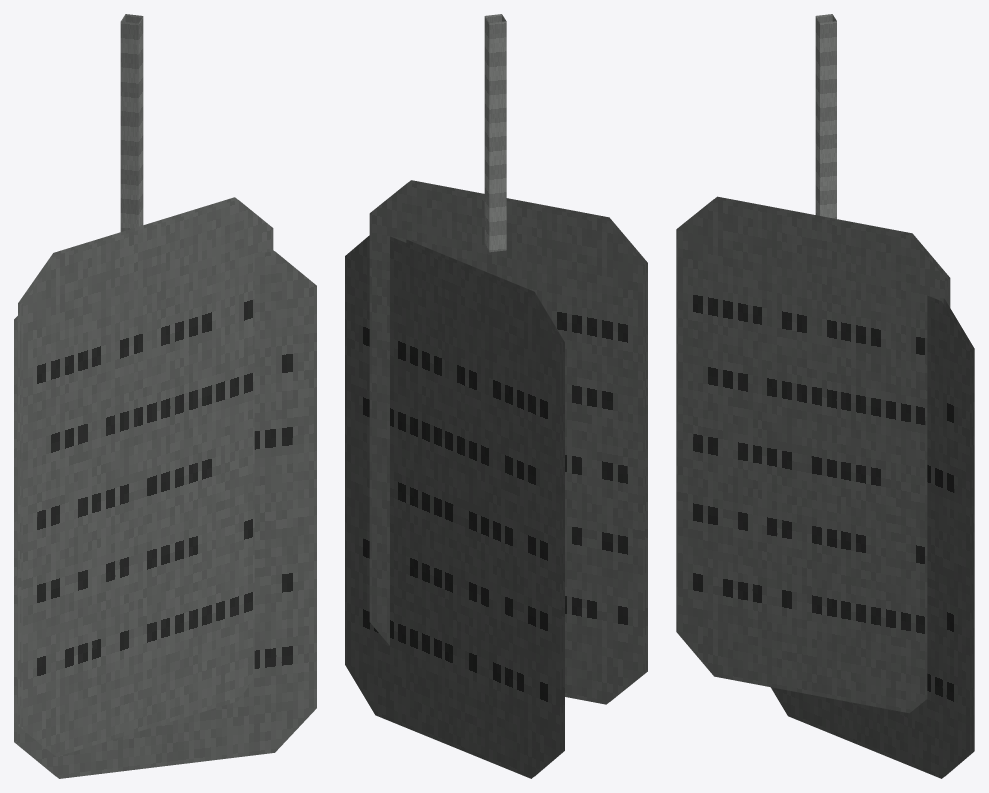
Rendered from charm_dogtags.glb.
3 views of the same model, side by side, from view 1: azimuth 30°, elevation 25°; view 2: azimuth 150°, elevation 25°; view 3: azimuth 330°, elevation 25° (orthographic). The views are drawn at different scales.
Parts seen in each view (by area): view 1: charm_dogtags; view 2: charm_dogtags; view 3: charm_dogtags.
Boxes of the visible parts, x1,y1,x2,y2 form: charm_dogtags: (14,14,316,778); charm_dogtags: (345,14,647,778); charm_dogtags: (676,14,974,778).
Bounding box in the file's own units: 0.0321 × 0.0768 × 0.00885.
1 material, 1 textured.
